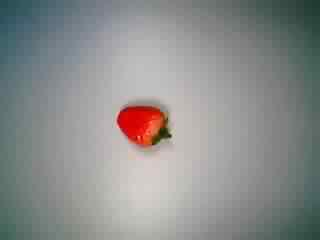strawberry: (112, 90, 174, 154)
